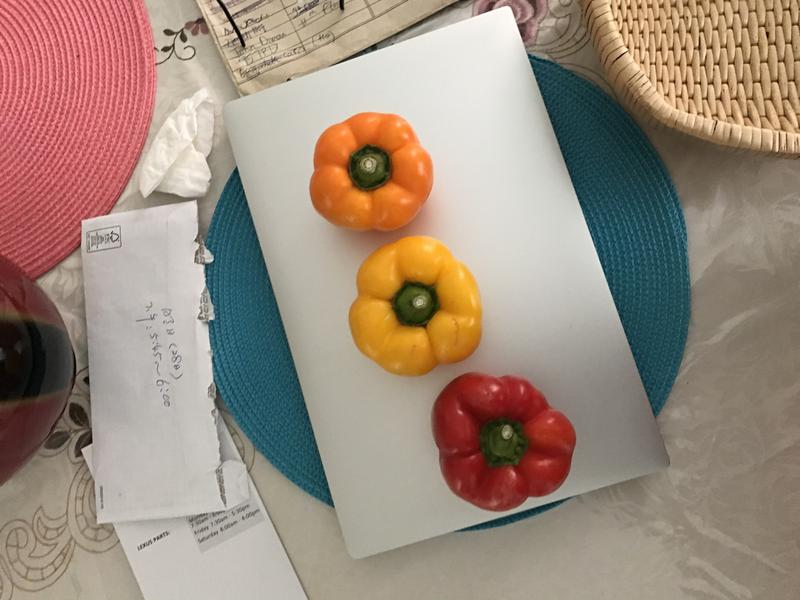orange_pepper: (303, 106, 448, 243)
red_pepper: (422, 368, 585, 518)
yellow_pepper: (346, 232, 495, 379)
